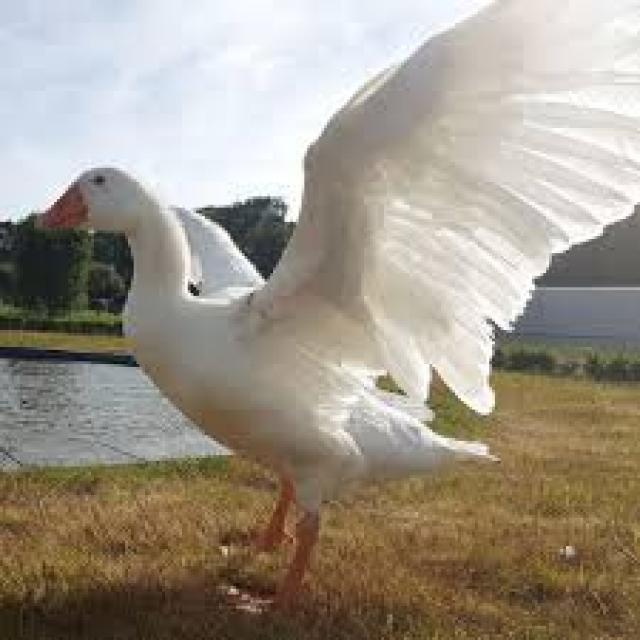Goose: (24, 60, 596, 575)
